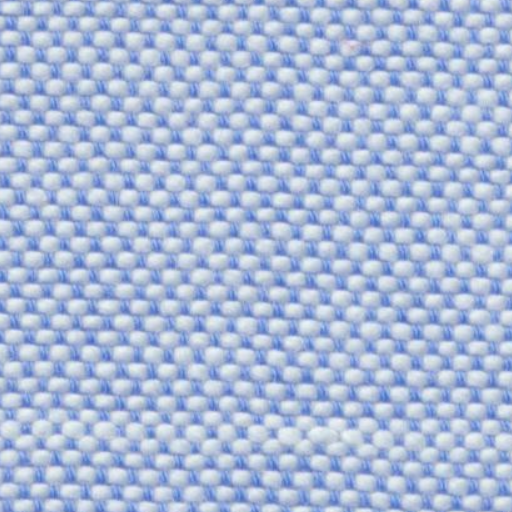TuoSha: (24, 378, 488, 478)
